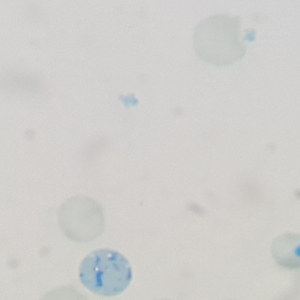aggregate reticulocyte: (77, 247, 135, 299)
erythrocyte: (190, 12, 252, 70), (54, 194, 107, 244)
